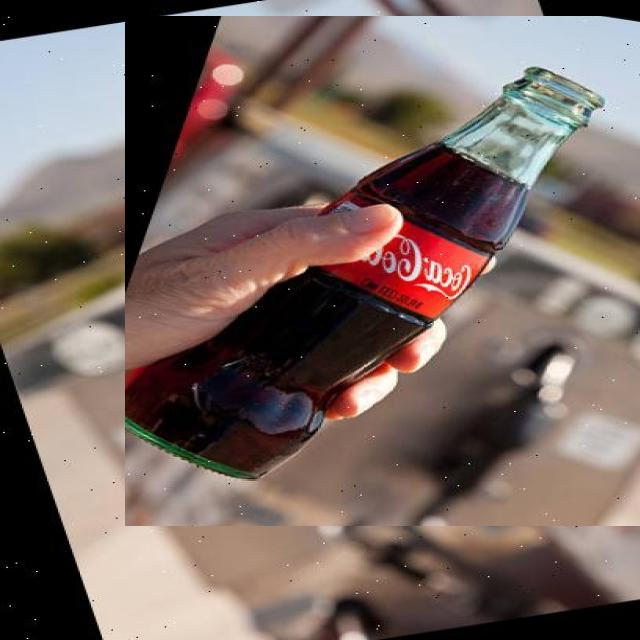coca-cola: (125, 16, 640, 526)
